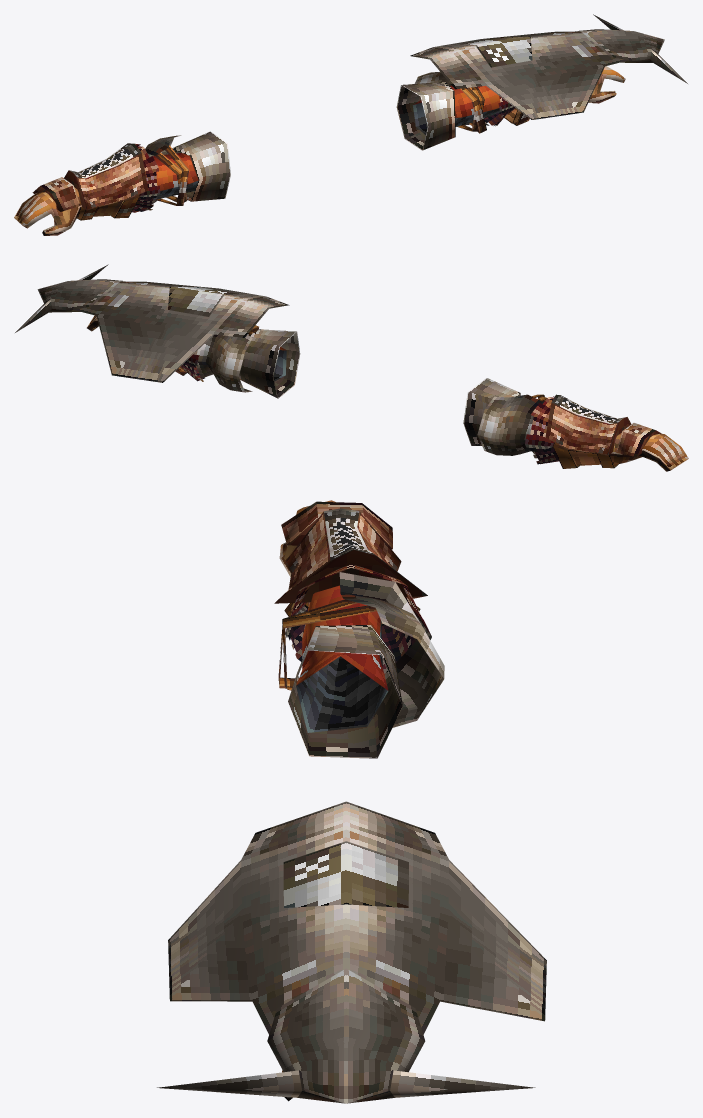
Rendered from f_gauntlet142.obj.
3 renders of one model, top to bottom at view 1: azimuth 30°, elevation 25°; view 2: azimuth 150°, elevation 25°; view 3: azimuth 270°, elevation 25°, orthographic. The views are drawn at different scales.
Visible parts, largest first — view 1: mesh00, mesh01; view 2: mesh00, mesh01; view 3: mesh00, mesh01.
Boxes of the visible parts, <box> form: mesh00: <box>14,14,687,235</box>; mesh01: <box>69,36,532,178</box>; mesh00: <box>15,264,688,471</box>; mesh01: <box>168,286,626,423</box>; mesh00: <box>157,500,546,1103</box>; mesh01: <box>283,508,408,907</box>.
Size of the model in its own units: 186 by 24.24 by 49.16.
Materials: 2 (2 with a texture image).
